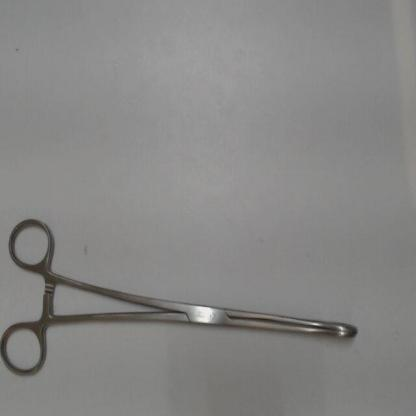Sponge Forceps: (0, 206, 367, 389)
